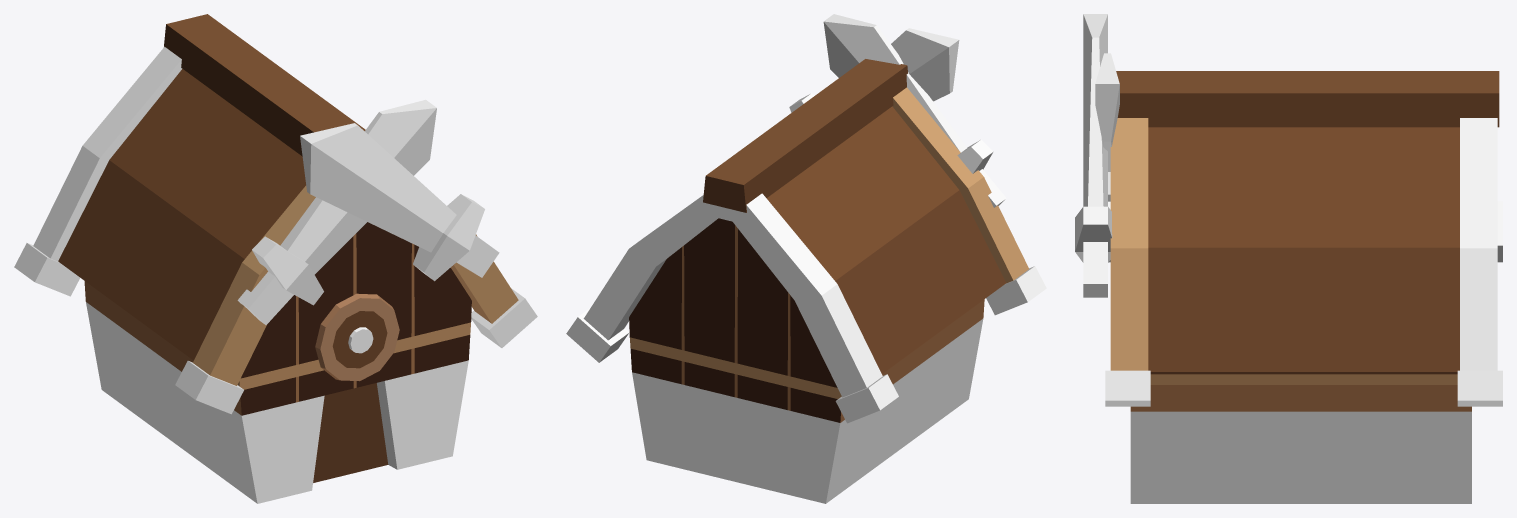
Rendered from Building_ArmyCamp_Lv4.fbx.
The picture shows the model from 3 angles, left to right: view 1: azimuth 30°, elevation 25°; view 2: azimuth 150°, elevation 25°; view 3: azimuth 270°, elevation 25°; orthographic projection. The views are drawn at different scales.
Visible parts, largest first — view 1: Building_ArmyCamp_Lv4; view 2: Building_ArmyCamp_Lv4; view 3: Building_ArmyCamp_Lv4.
Part boxes in pixels (box(x1,y1,x2,y2)): Building_ArmyCamp_Lv4: box(14, 14, 537, 503); Building_ArmyCamp_Lv4: box(566, 14, 1046, 503); Building_ArmyCamp_Lv4: box(1075, 14, 1502, 503).
Bounding box in the file's own units: 0.977 × 1.01 × 0.9668.
